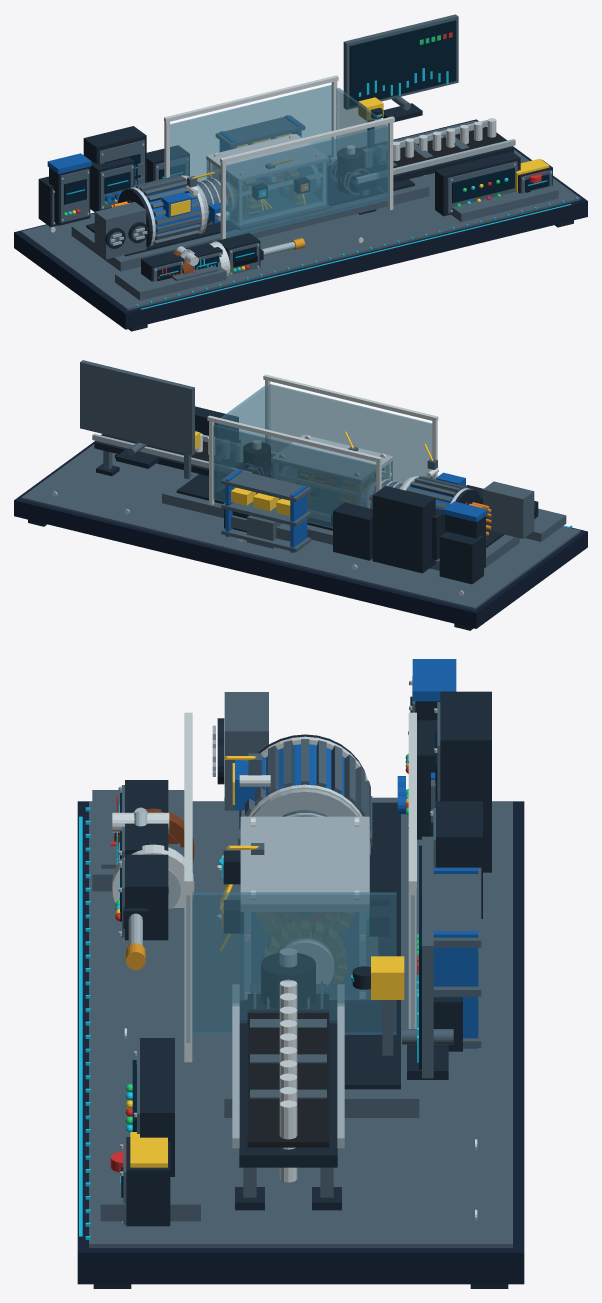
File: Level66_Complete_ArtKit_Showcase.fbx
The picture shows the model from 3 angles, top to bottom: view 1: azimuth 30°, elevation 25°; view 2: azimuth 150°, elevation 25°; view 3: azimuth 270°, elevation 25°; orthographic projection. The views are drawn at different scales.
Visible parts, largest first — view 1: L66_016_steel, L66_006_glass, L66_005_dark, L66_009_navy, L66_002_chrome, L66_038_screen_ANIM_TWIN_MONITOR, L66_014_screen, L66_035_glass_ANIM_SAFETY_DOOR, L66_026_silver_ANIM_GEARBOX_COVER, L66_001_blue, L66_015_silver, L66_004_cyan (+5 smaller); view 2: L66_016_steel, L66_006_glass, L66_005_dark, L66_009_navy, L66_039_steel_ANIM_TWIN_MONITOR, L66_002_chrome, L66_035_glass_ANIM_SAFETY_DOOR, L66_026_silver_ANIM_GEARBOX_COVER, L66_001_blue, L66_017_yellow, L66_015_silver, L66_021_rubber_ANIM_CONVEYOR_ROLLER (+1 smaller); view 3: L66_016_steel, L66_005_dark, L66_009_navy, L66_035_glass_ANIM_SAFETY_DOOR, L66_002_chrome, L66_026_silver_ANIM_GEARBOX_COVER, L66_012_rubber, L66_001_blue, L66_006_glass, L66_015_silver, L66_017_yellow, L66_004_cyan (+3 smaller).
Part boxes in pixels (x1,y1,x2,y2): L66_016_steel: (21,97,580,310); L66_006_glass: (170,85,388,238); L66_005_dark: (38,103,573,331); L66_009_navy: (14,119,587,329); L66_002_chrome: (50,75,496,277); L66_038_screen_ANIM_TWIN_MONITOR: (349,20,456,106); L66_014_screen: (64,154,549,281); L66_035_glass_ANIM_SAFETY_DOOR: (336,88,387,195); L66_026_silver_ANIM_GEARBOX_COVER: (206,134,328,182); L66_001_blue: (47,115,301,240); L66_015_silver: (53,120,552,274); L66_004_cyan: (66,68,577,309); L66_016_steel: (21,442,580,609); L66_006_glass: (213,384,432,528); L66_005_dark: (28,406,538,630); L66_009_navy: (14,440,587,628); L66_039_steel_ANIM_TWIN_MONITOR: (80,360,194,455); L66_002_chrome: (52,374,472,595); L66_035_glass_ANIM_SAFETY_DOOR: (215,385,268,491); L66_026_silver_ANIM_GEARBOX_COVER: (271,434,393,483); L66_001_blue: (225,469,487,552); L66_017_yellow: (195,431,433,515); L66_015_silver: (92,433,414,489); L66_021_rubber_ANIM_CONVEYOR_ROLLER: (243,442,270,477); L66_016_steel: (89,676,512,1247); L66_005_dark: (93,691,508,1288); L66_009_navy: (77,801,524,1284); L66_035_glass_ANIM_SAFETY_DOOR: (192,892,396,1034); L66_002_chrome: (112,712,477,1220); L66_026_silver_ANIM_GEARBOX_COVER: (240,816,369,911); L66_012_rubber: (247,994,329,1147); L66_001_blue: (235,659,478,1048); L66_006_glass: (186,821,414,1042); L66_015_silver: (118,680,437,1222); L66_017_yellow: (115,756,408,1167); L66_004_cyan: (79,758,418,1239).
Size of the model in its own units: 12.8 by 4.1 by 5.35.
